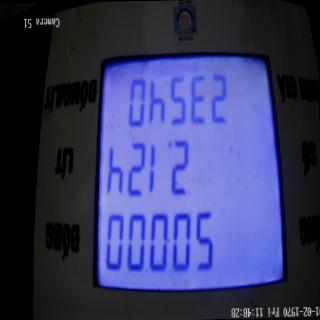screen: (86, 33, 290, 314)
